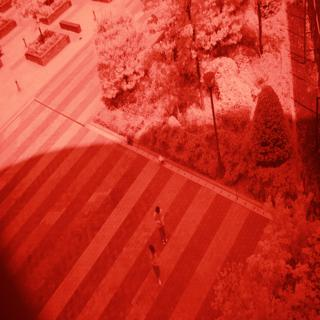person: (149, 200, 174, 245), (144, 238, 166, 289)
